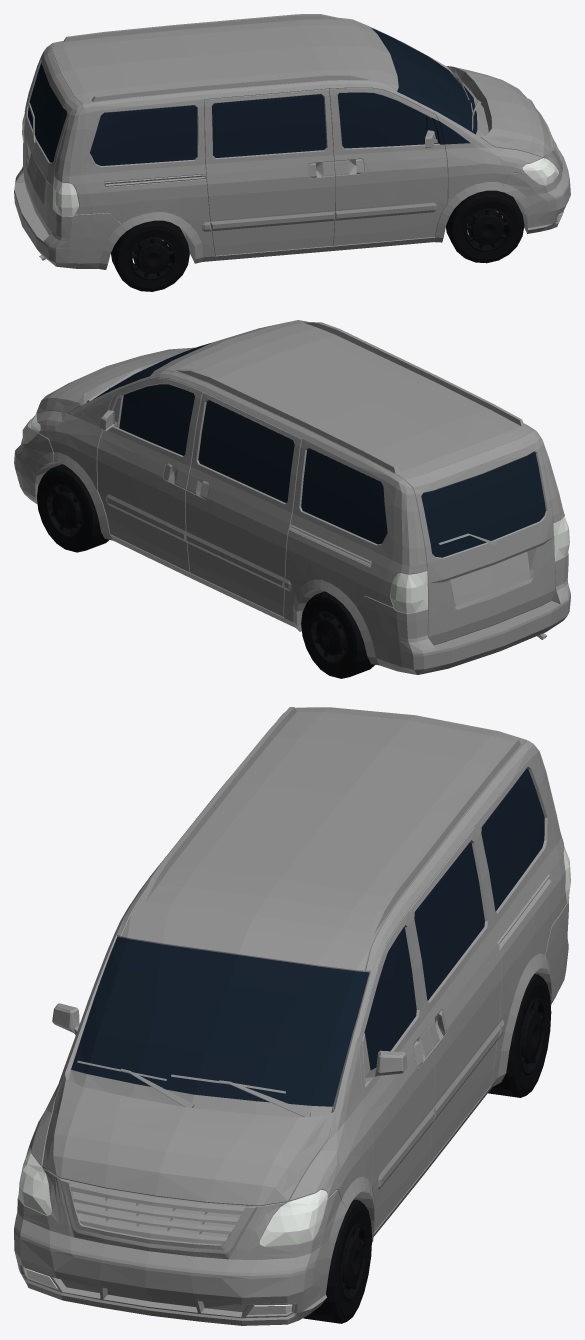
File: minivan.obj
The picture shows the model from 3 angles, top to bottom: view 1: azimuth 30°, elevation 25°; view 2: azimuth 150°, elevation 25°; view 3: azimuth 270°, elevation 25°; orthographic projection. The views are drawn at different scales.
Visible parts, largest first — view 1: minivan-body, wheel_d003; view 2: minivan-body, wheel_d003; view 3: minivan-body, wheel_d003.
Boxes of the visible parts, bbox=[...] form: minivan-body: bbox=[14, 14, 570, 269]; wheel_d003: bbox=[111, 190, 524, 291]; minivan-body: bbox=[14, 320, 570, 674]; wheel_d003: bbox=[37, 464, 374, 678]; minivan-body: bbox=[14, 707, 570, 1325]; wheel_d003: bbox=[303, 974, 551, 1323].
Bounding box in the file's own units: 4.1 × 1.56 × 2.49.
